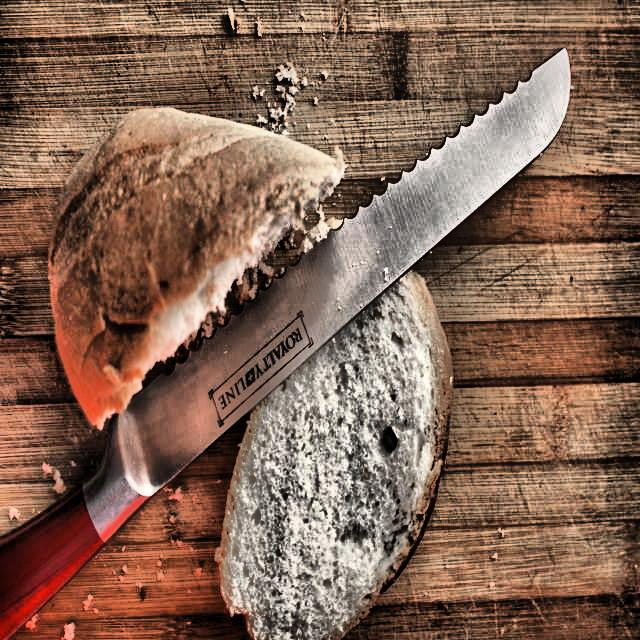knife: (0, 39, 578, 640)
